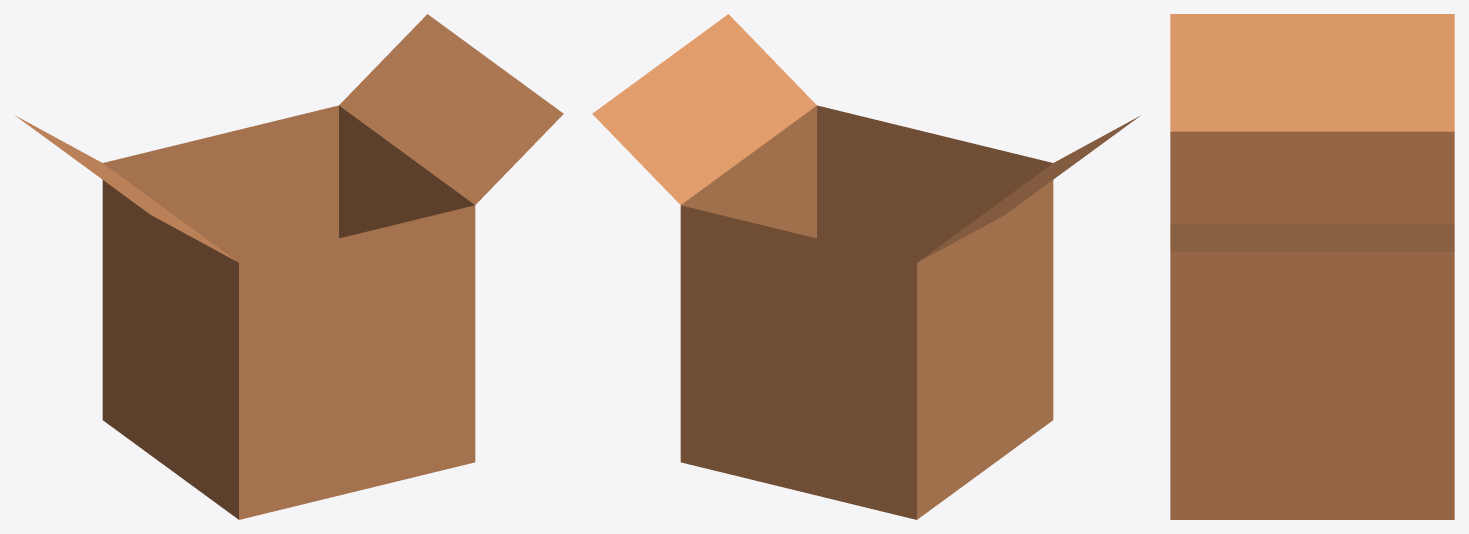
The model's file is cardboardBoxOpen.fbx.
3 renders of one model, left to right at view 1: azimuth 30°, elevation 25°; view 2: azimuth 150°, elevation 25°; view 3: azimuth 270°, elevation 25°, orthographic. The views are drawn at different scales.
Visible parts, largest first — view 1: cardboardBoxOpen; view 2: cardboardBoxOpen; view 3: cardboardBoxOpen.
Part boxes in pixels (box(x1,y1,x2,y2)): cardboardBoxOpen: box(15, 14, 563, 519); cardboardBoxOpen: box(592, 14, 1140, 519); cardboardBoxOpen: box(1170, 14, 1454, 519).
Size of the model in its own units: 3.72 by 2.81 by 2.13.
